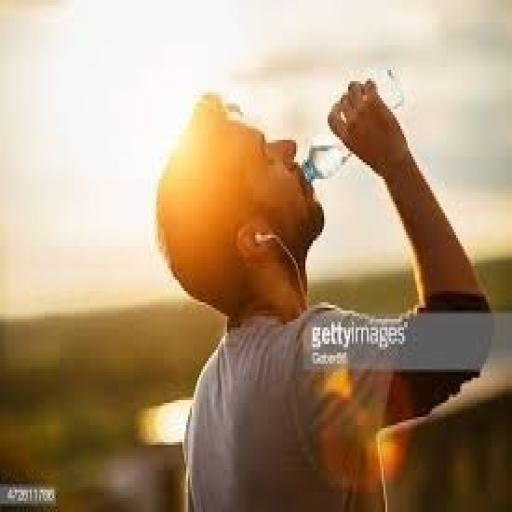drinking: (136, 79, 512, 512)
